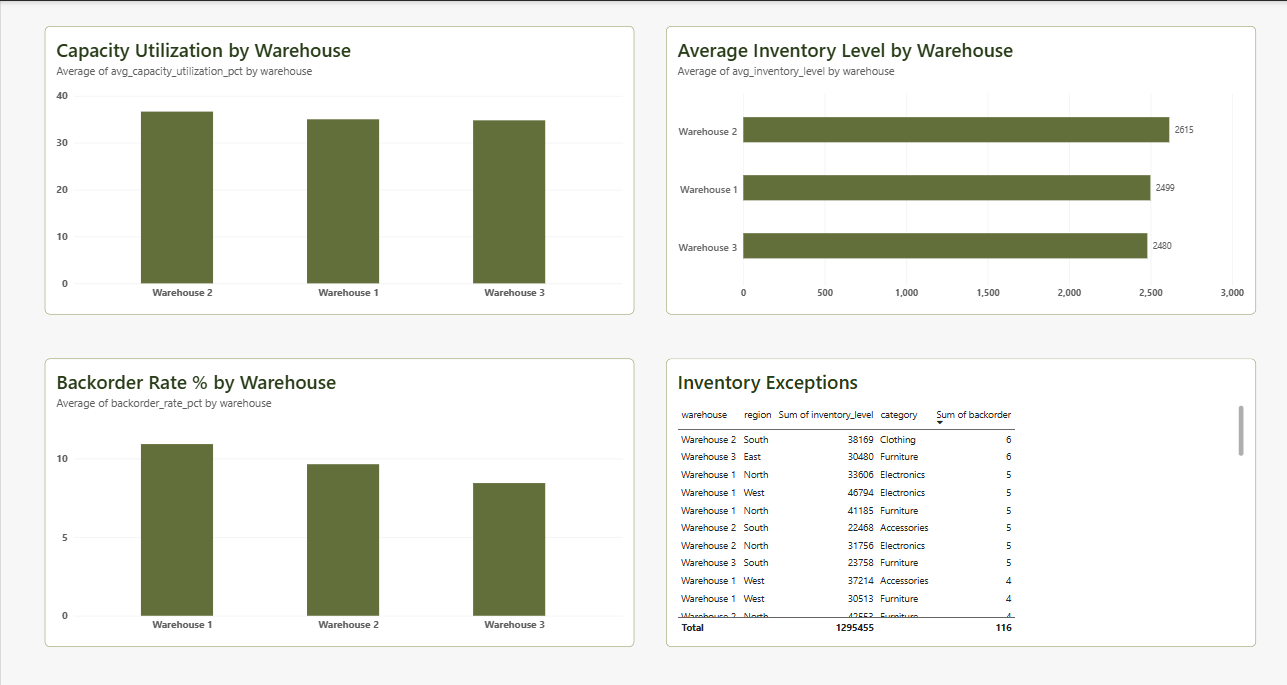

The page's visual inventory and layout, read from the dashboard file:
{"tool":"powerbi","page":{"name":"Inventory & Warehouse","canvas":[1920,1080],"ordinal":1},"visuals":[{"type":"clusteredColumnChart","title":"Capacity Utilization by Warehouse","fields":{"Category":["supply_chain_mis vw_warehouse_mis.warehouse"],"Y":["Avg(supply_chain_mis vw_warehouse_mis.avg_capacity_utilization_pct)"]},"box":[64.4,36.8,868,425.2],"z":0},{"type":"clusteredBarChart","title":"Average Inventory Level by Warehouse","fields":{"Category":["supply_chain_mis vw_warehouse_mis.warehouse"],"Y":["Avg(supply_chain_mis vw_warehouse_mis.avg_inventory_level)"]},"box":[979.1,36.8,868.7,425.2],"z":1000},{"type":"clusteredColumnChart","title":"Backorder Rate % by Warehouse","fields":{"Category":["supply_chain_mis vw_warehouse_mis.warehouse"],"Y":["Avg(supply_chain_mis vw_warehouse_mis.backorder_rate_pct)"]},"box":[64.4,526.4,868,425],"z":2000},{"type":"tableEx","title":"Inventory Exceptions","fields":{"Values":["supply_chain_mis vw_inventory_exceptions.warehouse","supply_chain_mis vw_inventory_exceptions.region","Sum(supply_chain_mis vw_inventory_exceptions.inventory_level)","supply_chain_mis vw_inventory_exceptions.category","Sum(supply_chain_mis vw_inventory_exceptions.backorder)"]},"box":[979.1,526.4,868.7,425.2],"z":3000}]}

Visuals, with their boxes on the page's 1920x1080 design canvas (x1, y1, x2, y2). These are canvas units, not pixel positions in the 1287x685 screenshot, which may show the page scaled, cropped or inside an application window:
"Capacity Utilization by Warehouse" clusteredColumnChart: (64, 37, 932, 462)
"Average Inventory Level by Warehouse" clusteredBarChart: (979, 37, 1848, 462)
"Backorder Rate % by Warehouse" clusteredColumnChart: (64, 526, 932, 951)
"Inventory Exceptions" tableEx: (979, 526, 1848, 952)
